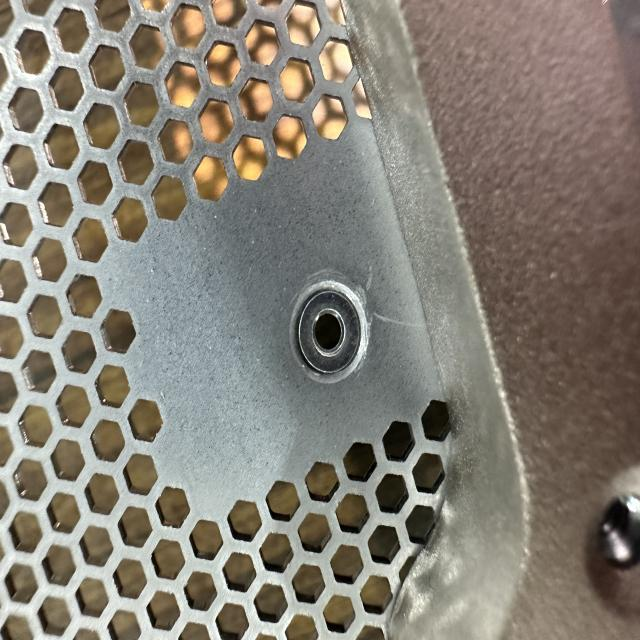Missing screw: (282, 264, 376, 397)
